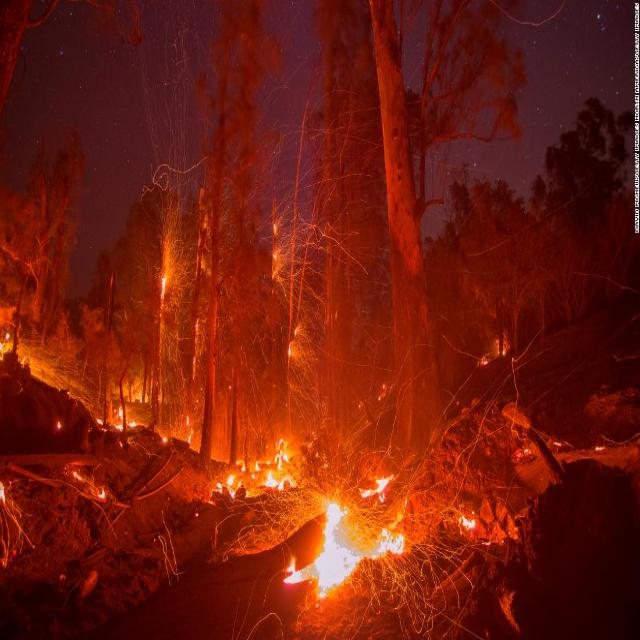Fire: (282, 488, 406, 618), (219, 442, 301, 519)
